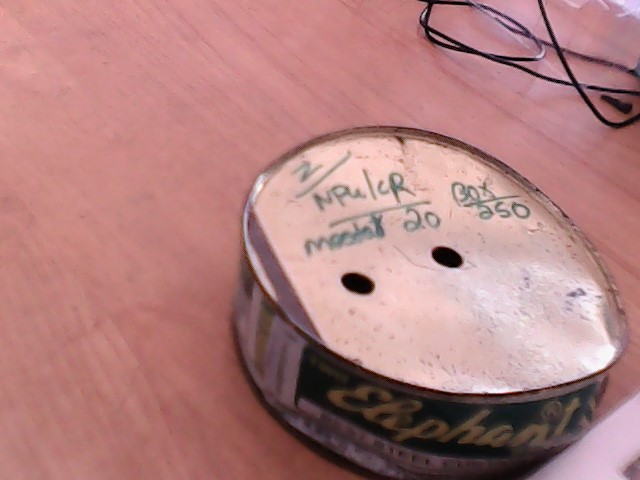Metal: (214, 135, 640, 471)
